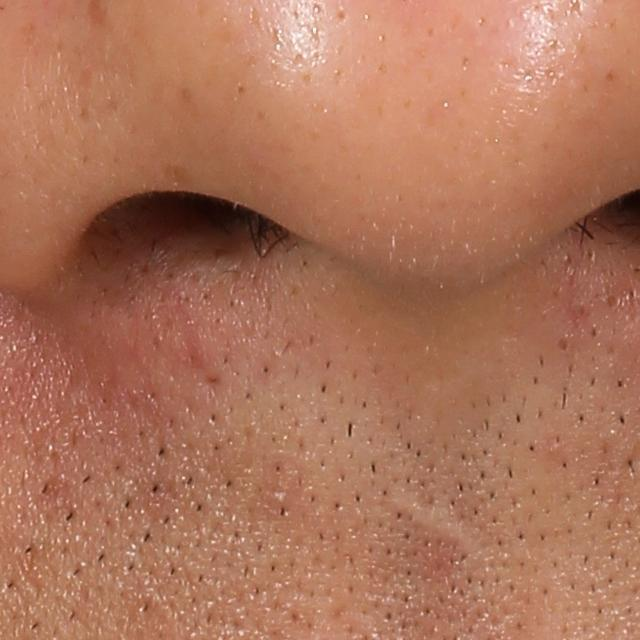comedo: (554, 333, 573, 353)
